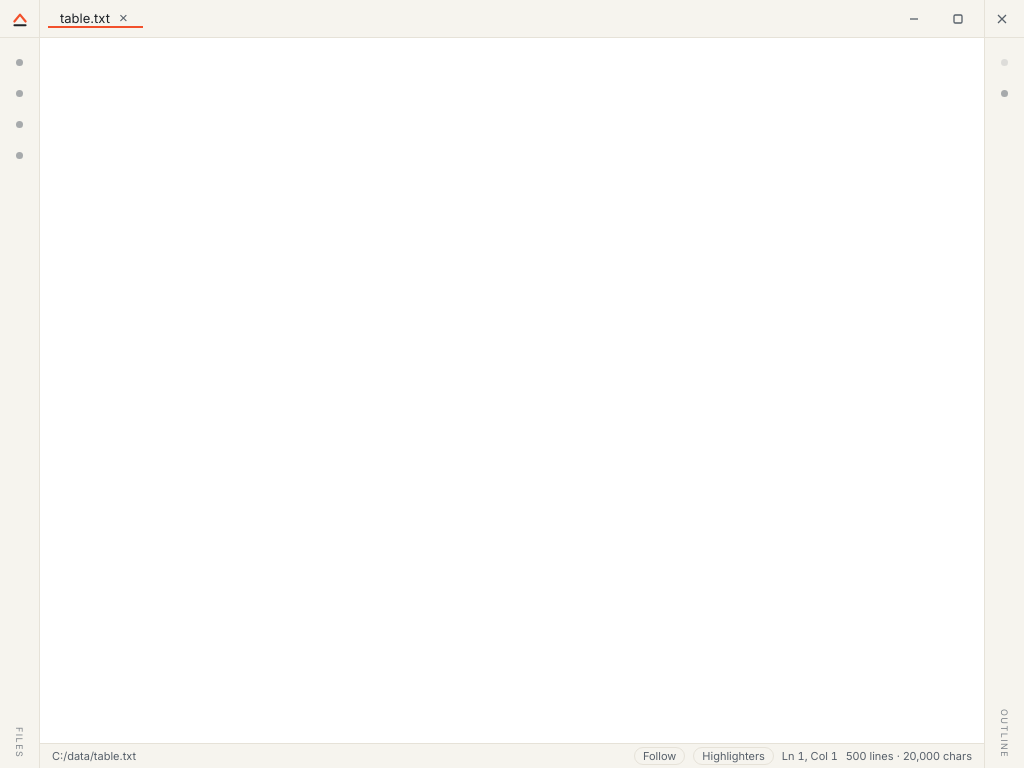
Test: command bar › collapses the editor to matches when Filter mode has a query
Press p
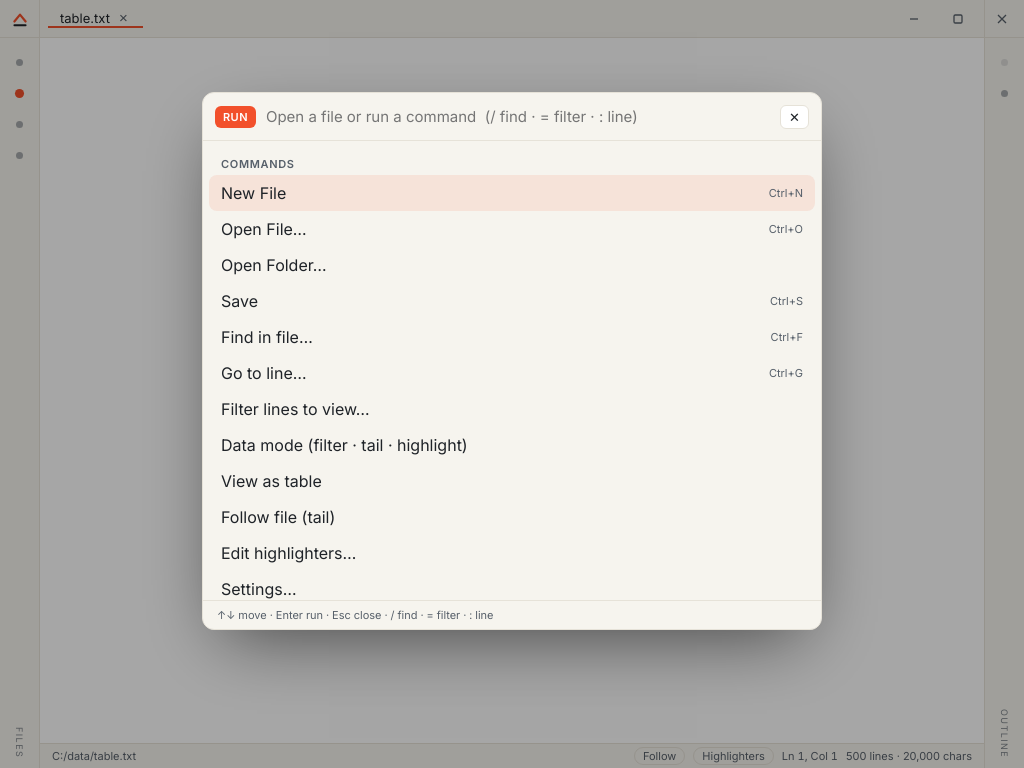
Click the text "Filter lines to view…". click: (295, 409)
box: [221,399,370,419]
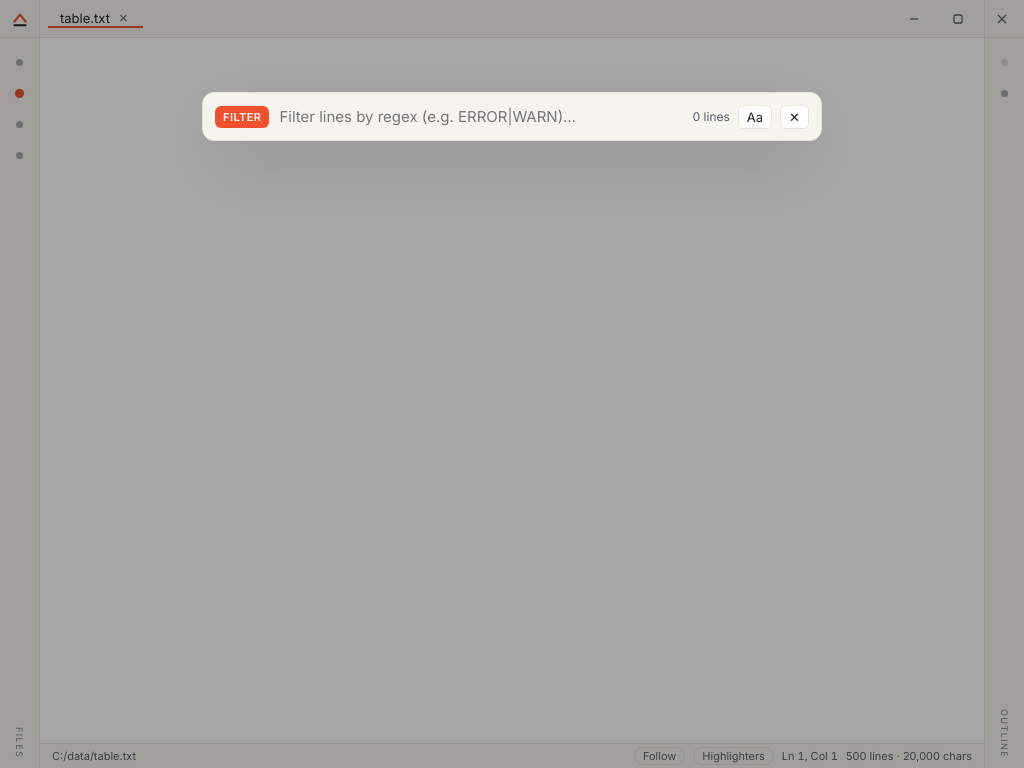
Type "ORDER-FAILED" into the field with placeholder "Filter lines by regex (e.g. ERROR|WARN)…". click: (481, 117)
box: [278,103,685,130]
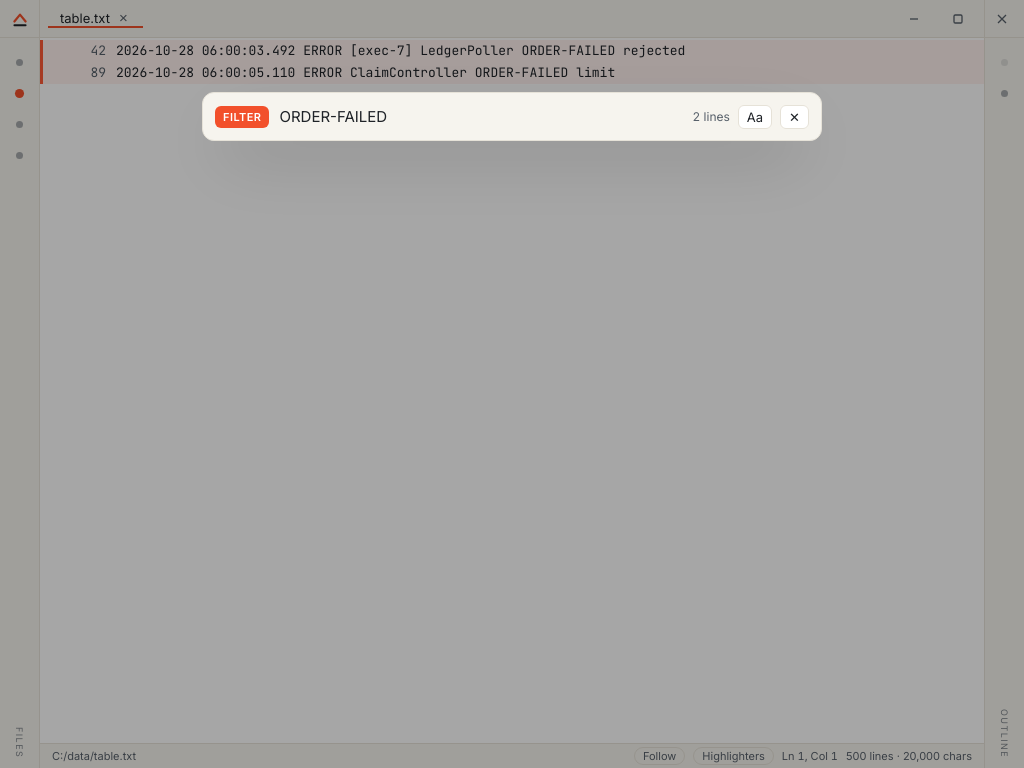
Result: the text "2026-10-28 06:00:03.492 ERROR [exec-7] LedgerPoller ORDER-FAILED rejected" is shown at [116,42,685,59]
Result: the text "2 lines" is shown at [693,109,730,124]
